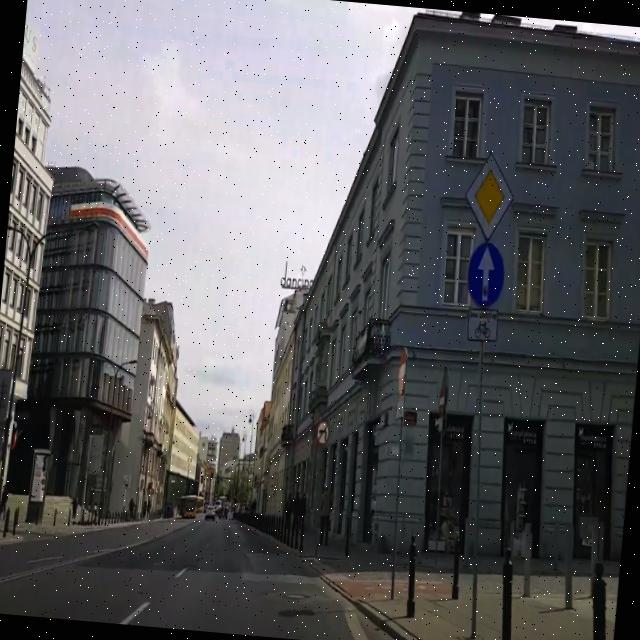Droga z pierwszenstwem: (460, 148, 520, 242)
Zakaz wjazdu: (395, 350, 409, 396), (437, 386, 447, 416)
